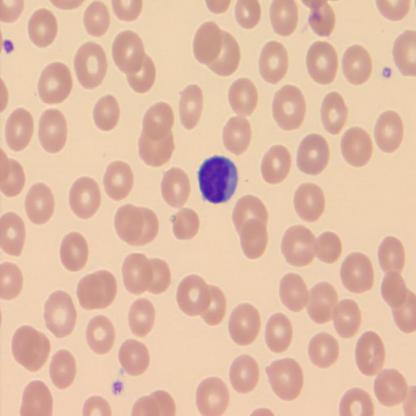Lymphocyte: (197, 154, 239, 206)
